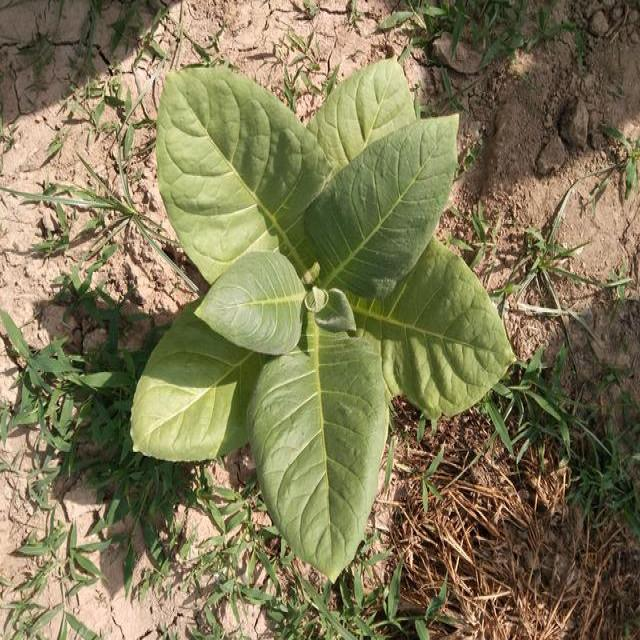crop: (135, 58, 522, 580)
